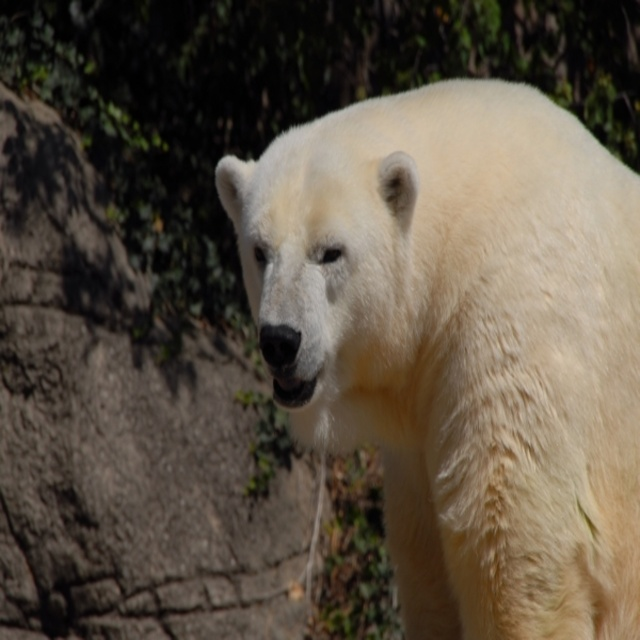Polar bear: (215, 79, 639, 639)
